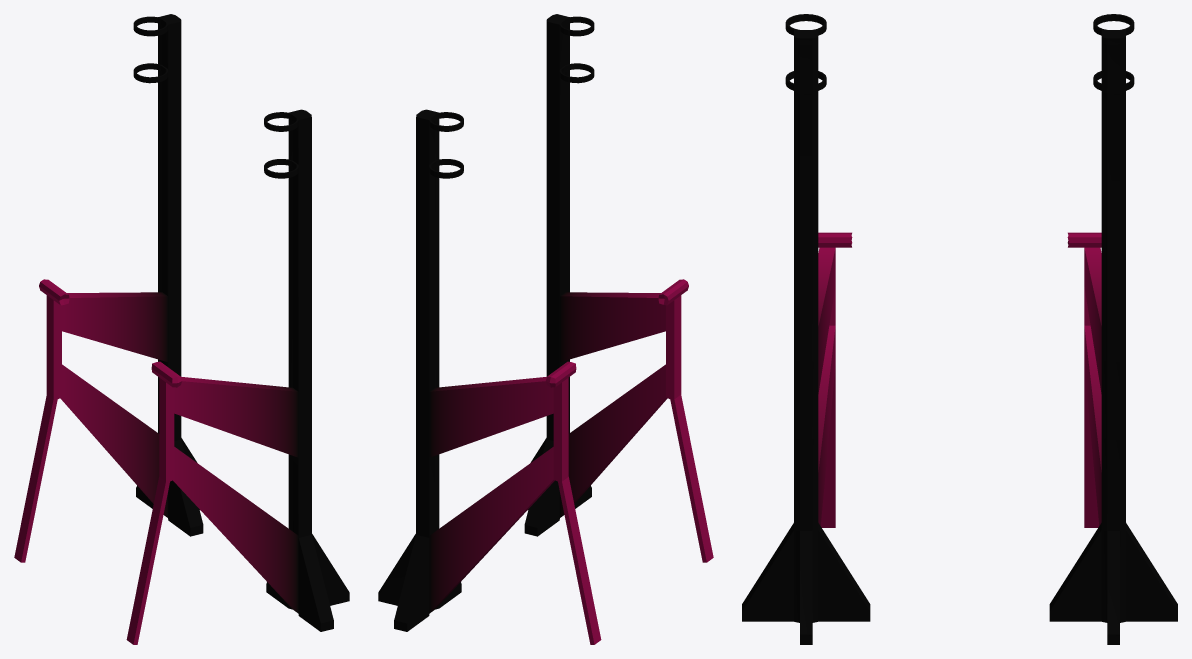
The model's file is GearSupport.fbx.
The picture shows the model from 3 angles, left to right: view 1: azimuth 30°, elevation 25°; view 2: azimuth 150°, elevation 25°; view 3: azimuth 270°, elevation 25°; orthographic projection. The views are drawn at different scales.
Visible parts, largest first — view 1: Cube.003; view 2: Cube.003; view 3: Cube.003.
Boxes of the visible parts, x1,y1,x2,y2 form: Cube.003: (14, 14, 349, 644); Cube.003: (378, 14, 713, 644); Cube.003: (742, 14, 1177, 644).
Bounding box in the file's own units: 2513 × 5728 × 3868.
